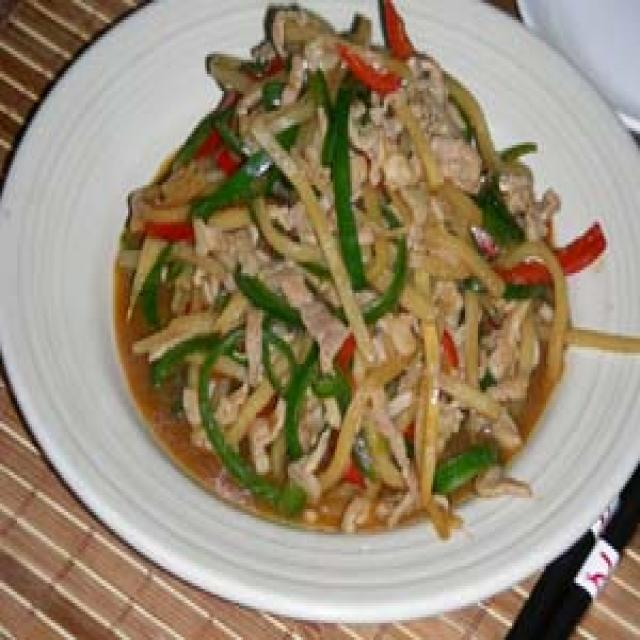牛肉菜式: (66, 0, 640, 540)
